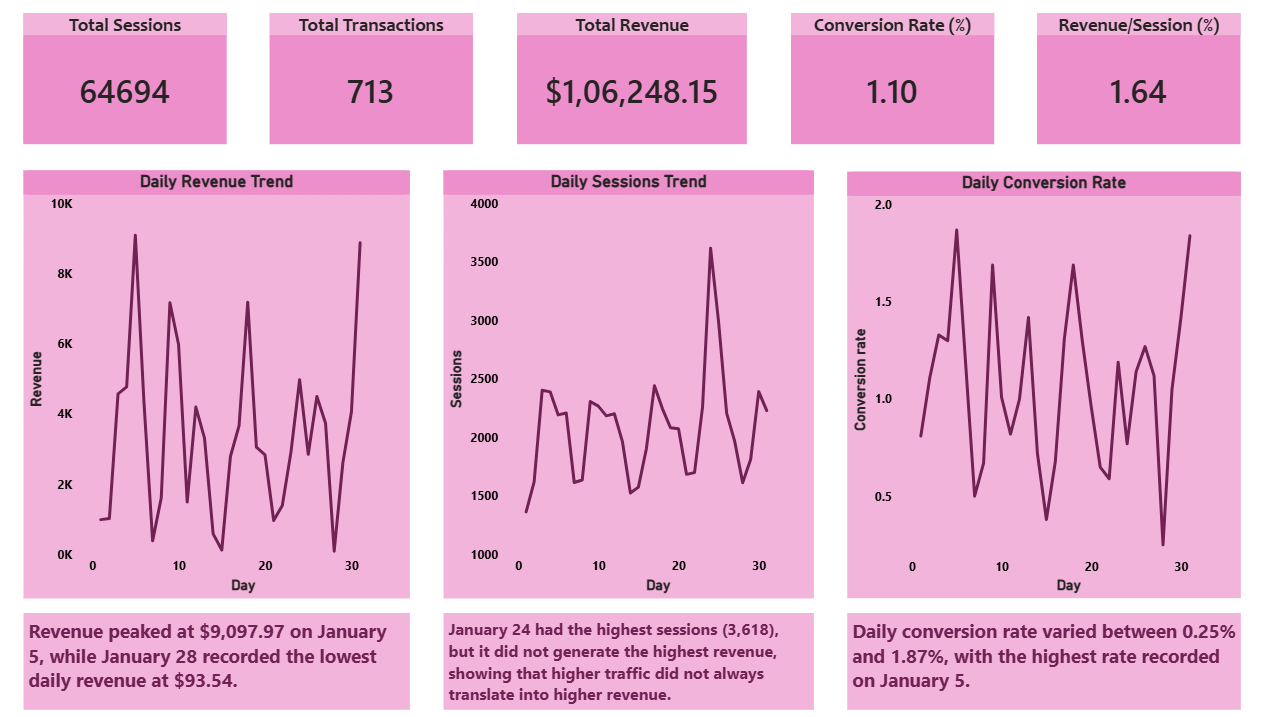

This screenshot's page, from the dashboard's own definition file:
{"tool":"powerbi","page":{"name":"Executive overview","canvas":[1280,720],"ordinal":0},"visuals":[{"type":"cardVisual","title":"Total Sessions","fields":{"Data":["Sum(channel_performance_jan2017.sessions)"]},"box":[26.9,14.7,203,130.8],"z":0},{"type":"cardVisual","title":"Total Transactions","fields":{"Data":["Sum(channel_performance_jan2017.transactions)"]},"box":[273.9,14.7,203,130.8],"z":1000},{"type":"cardVisual","title":"Total Revenue","fields":{"Data":["Sum(channel_performance_jan2017.revenue)"]},"box":[520.9,14.7,229.9,130.8],"z":2000},{"type":"cardVisual","title":"Conversion Rate (%)","fields":{"Data":["Avg(overall_kpis_jan2017.overall_conversion_rate)"]},"box":[794.8,14.7,203,130.8],"z":3000},{"type":"cardVisual","title":"Revenue/Session (%)","fields":{"Data":["Avg(overall_kpis_jan2017.revenue_per_session)"]},"box":[1041.9,14.7,203,130.8],"z":4000},{"type":"lineChart","title":"Daily Revenue Trend ","fields":{"Category":["daily_performance_jan2017.day.Variation.Date Hierarchy.Day"],"Y":["Sum(daily_performance_jan2017.revenue)"]},"box":[26.9,172.4,386.4,428],"z":5000},{"type":"lineChart","title":"Daily Sessions Trend","fields":{"Category":["daily_performance_jan2017.day.Variation.Date Hierarchy.Day"],"Y":["Sum(daily_performance_jan2017.sessions)"]},"box":[447.6,172.4,370.5,428],"z":6000},{"type":"lineChart","title":"Daily Conversion Rate","fields":{"Category":["daily_performance_jan2017.day.Variation.Date Hierarchy.Day"],"Y":["Avg(daily_performance_jan2017.conversion_rate)"]},"box":[851.1,173.6,393.8,426.8],"z":7000},{"type":"textbox","box":[26.9,615.1,386.4,96.6],"z":8000},{"type":"textbox","box":[447.6,615.1,370.5,96.6],"z":9000},{"type":"textbox","box":[851.1,615.1,393.8,96.6],"z":10000}]}

Visuals, with their boxes in screenshot pixels (x1, y1, x2, y2), scaled from the page's 1280x720 canvas onto the 1266x717 screenshot:
"Total Sessions" cardVisual: (left=27, top=15, right=227, bottom=145)
"Total Transactions" cardVisual: (left=271, top=15, right=472, bottom=145)
"Total Revenue" cardVisual: (left=515, top=15, right=743, bottom=145)
"Conversion Rate (%)" cardVisual: (left=786, top=15, right=987, bottom=145)
"Revenue/Session (%)" cardVisual: (left=1031, top=15, right=1231, bottom=145)
"Daily Revenue Trend " lineChart: (left=27, top=172, right=409, bottom=598)
"Daily Sessions Trend" lineChart: (left=443, top=172, right=809, bottom=598)
"Daily Conversion Rate" lineChart: (left=842, top=173, right=1231, bottom=598)
textbox: (left=27, top=613, right=409, bottom=709)
textbox: (left=443, top=613, right=809, bottom=709)
textbox: (left=842, top=613, right=1231, bottom=709)
